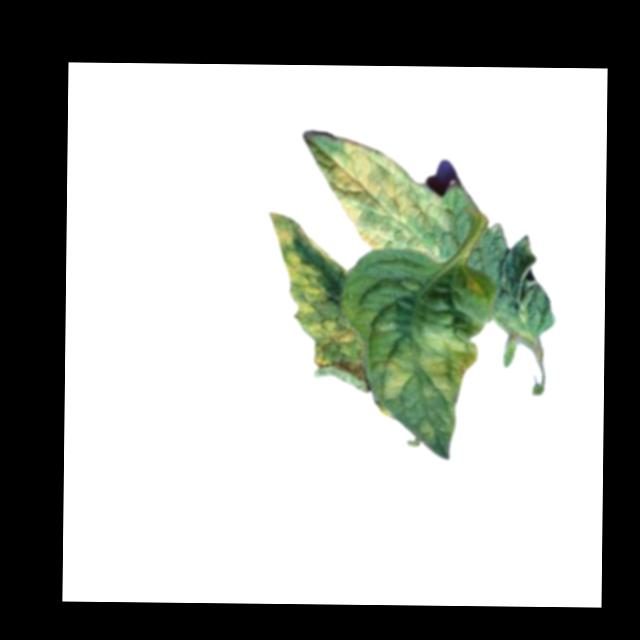Leaf_Mold: (266, 211, 367, 389), (308, 136, 445, 263), (416, 326, 479, 404), (372, 346, 414, 402)
